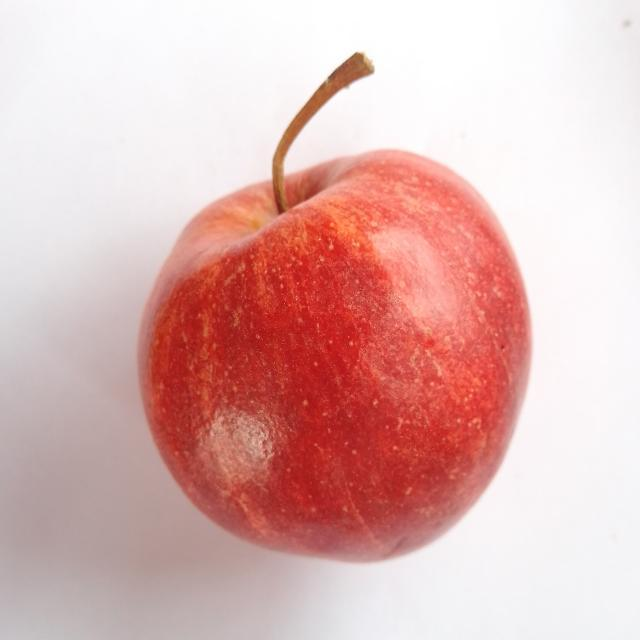Fresh Apple: (144, 162, 528, 543)
